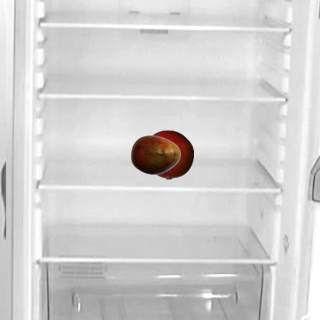Apple Braeburn: (143, 129, 193, 179)
Mango Red: (130, 129, 180, 179)
